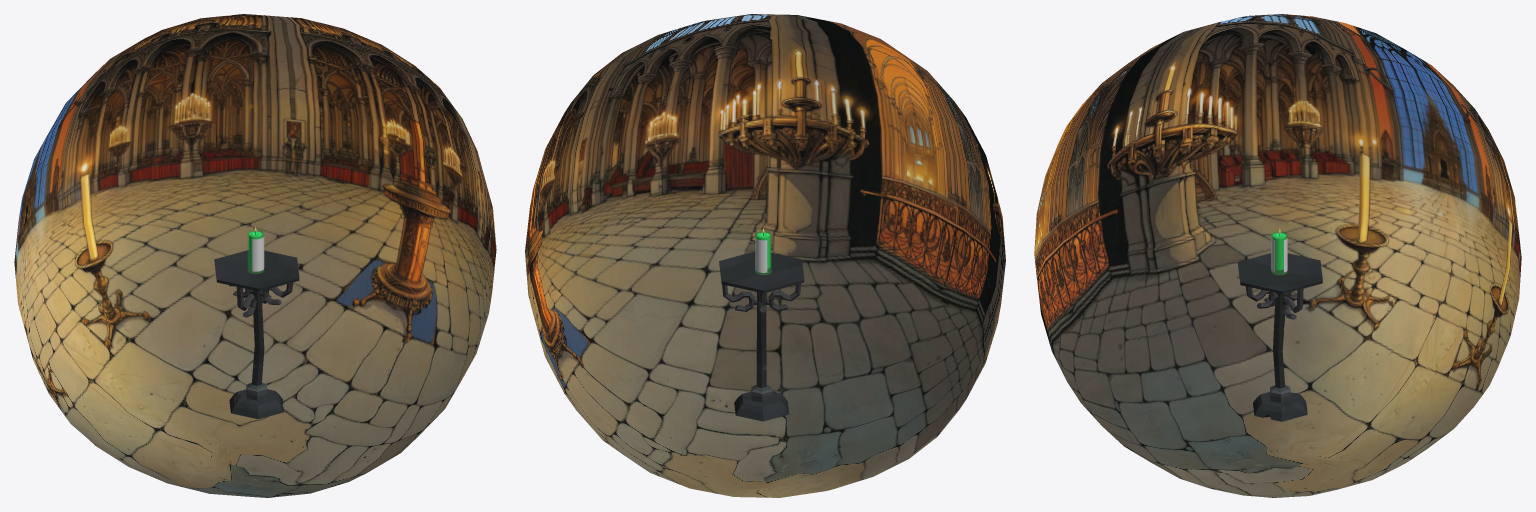
The model's file is XCandleAnimatedFlameVotive.glb.
The picture shows the model from 3 angles, left to right: view 1: azimuth 30°, elevation 25°; view 2: azimuth 150°, elevation 25°; view 3: azimuth 270°, elevation 25°; orthographic projection.
Visible parts, largest first — view 1: Room, Candle_Stand; view 2: Room, Candle_Stand; view 3: Room, Candle_Stand.
Part boxes in pixels (x1,y1,x2,y2): Room: (14,14,496,497); Candle_Stand: (214,250,299,419); Room: (525,14,1005,497); Candle_Stand: (719,251,804,421); Room: (1034,14,1521,497); Candle_Stand: (1237,253,1322,421).
Size of the model in its own units: 24.95 by 24.43 by 24.95.
6 materials, 4 textured.
